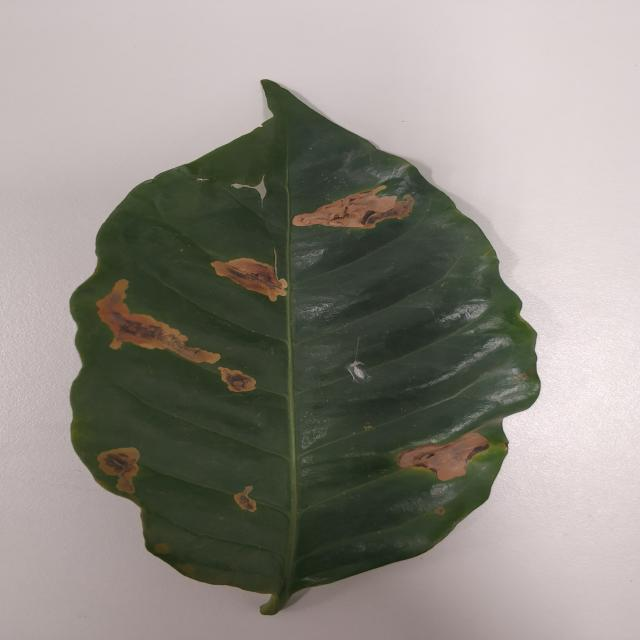Plaga-Minador: (68, 80, 542, 618)
